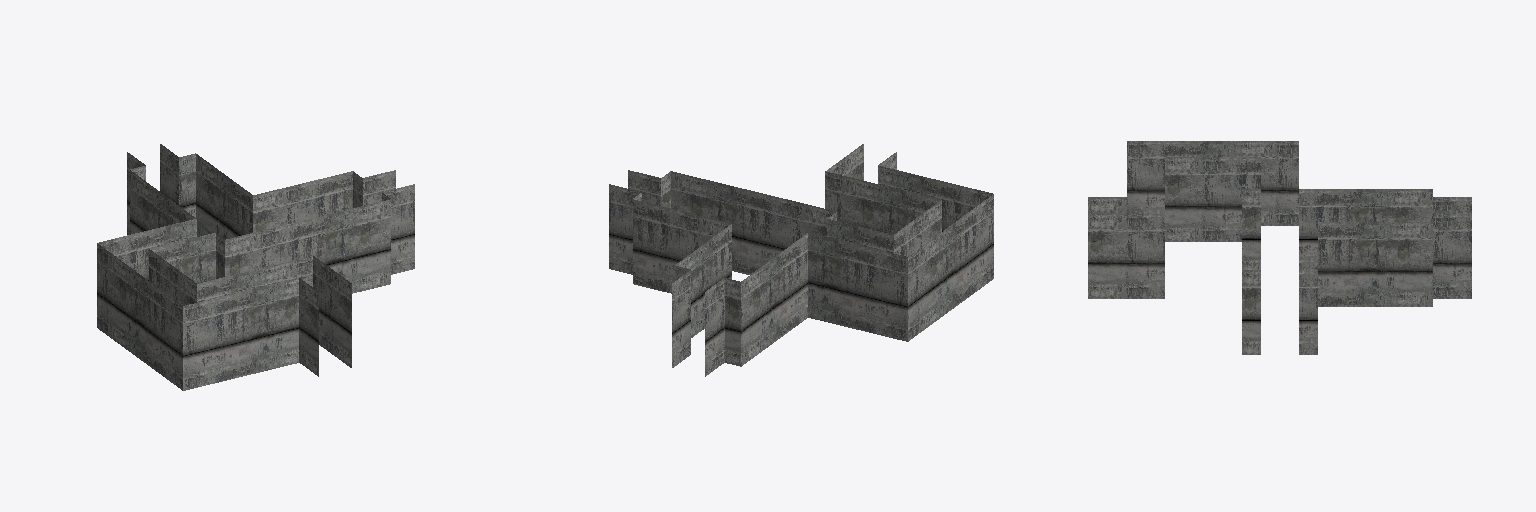
3 views of the same model, side by side, from view 1: azimuth 30°, elevation 25°; view 2: azimuth 150°, elevation 25°; view 3: azimuth 270°, elevation 25° (orthographic).
Visible parts, largest first — view 1: Room; view 2: Room; view 3: Room.
Part boxes in pixels (x1,y1,x2,y2): Room: (97, 144, 414, 390); Room: (609, 144, 993, 376); Room: (1088, 141, 1471, 354).
Bounding box in the file's own units: 9 × 2.45 × 10.
1 materials, 1 textured.